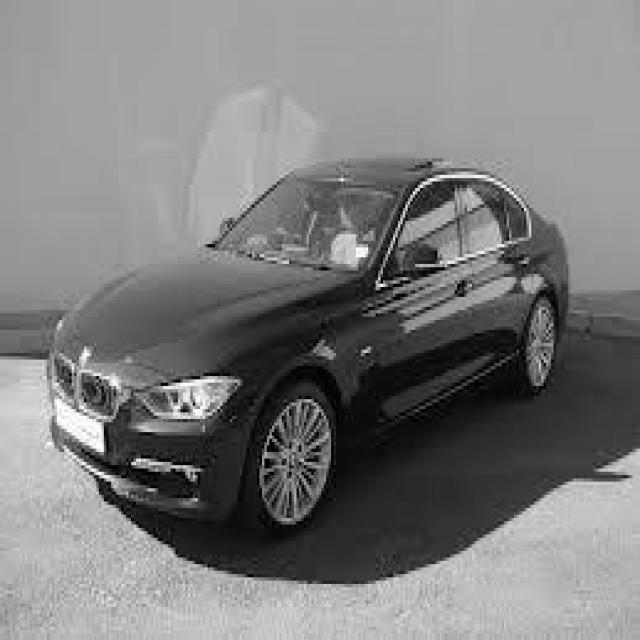car: (44, 152, 571, 534)
